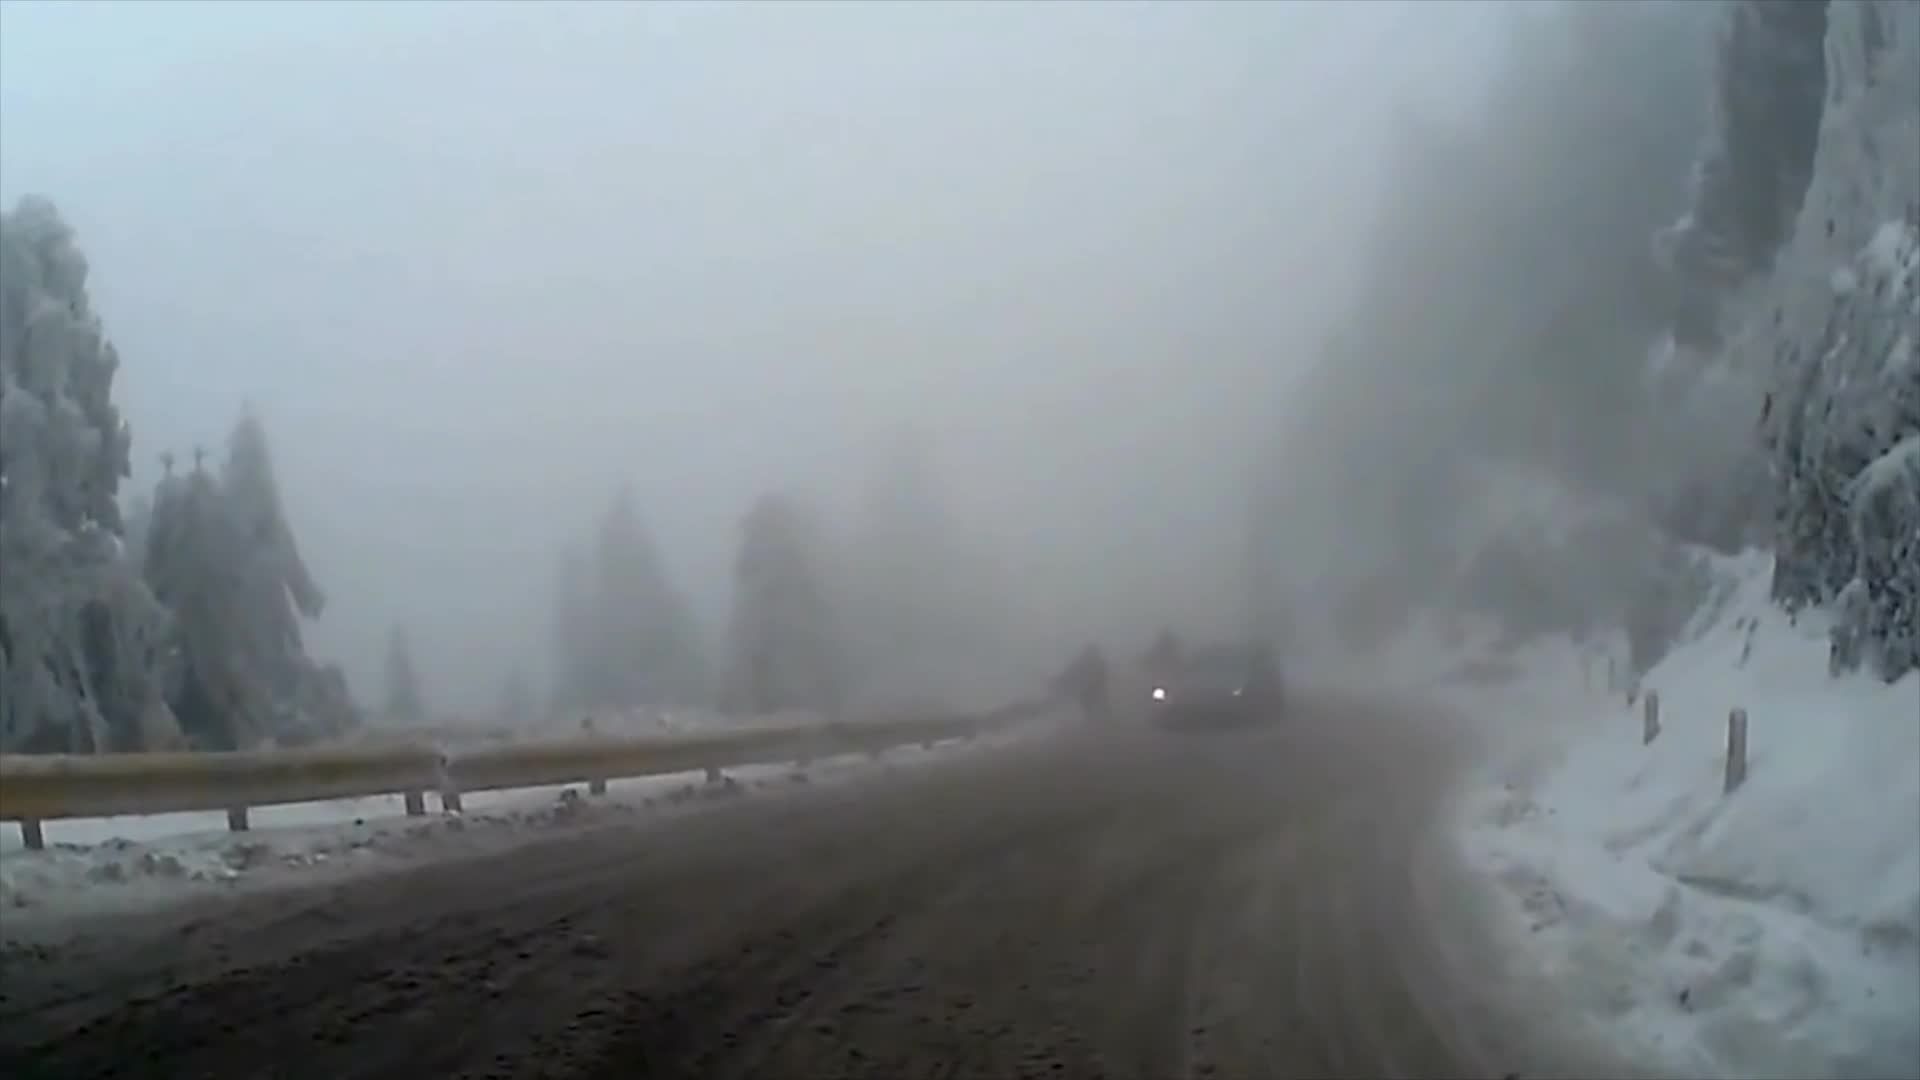vehicle: (1149, 637, 1290, 729)
